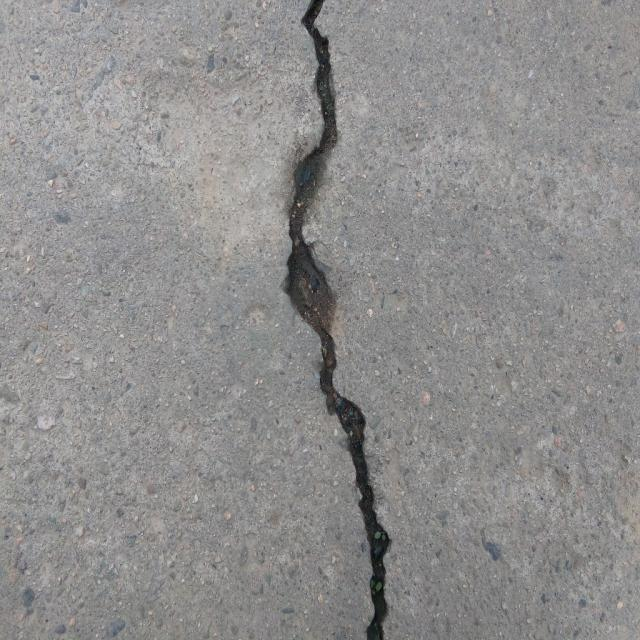cracks: (256, 0, 410, 640)
